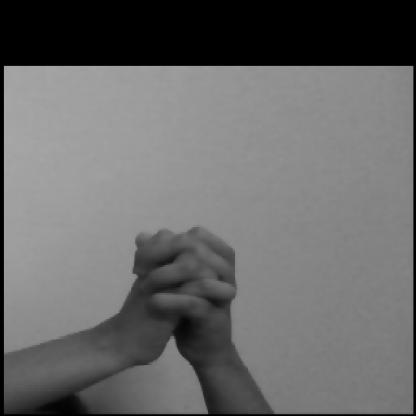prayer: (72, 200, 288, 387)
